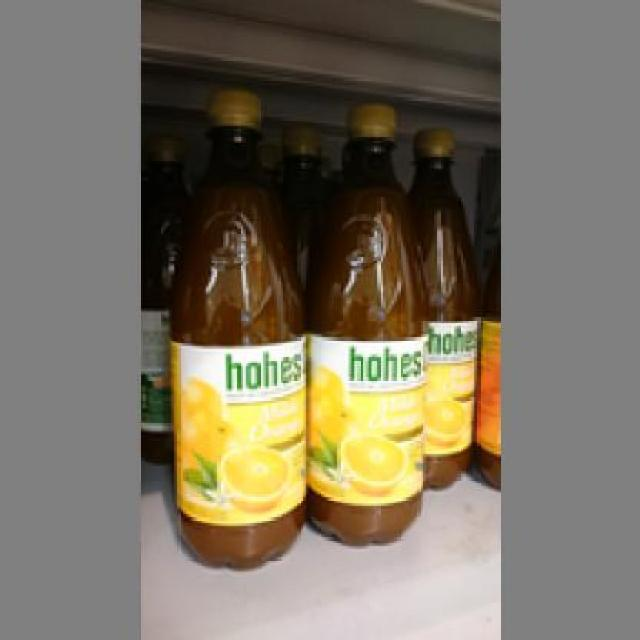Juice: (166, 85, 303, 566), (306, 100, 420, 546)
